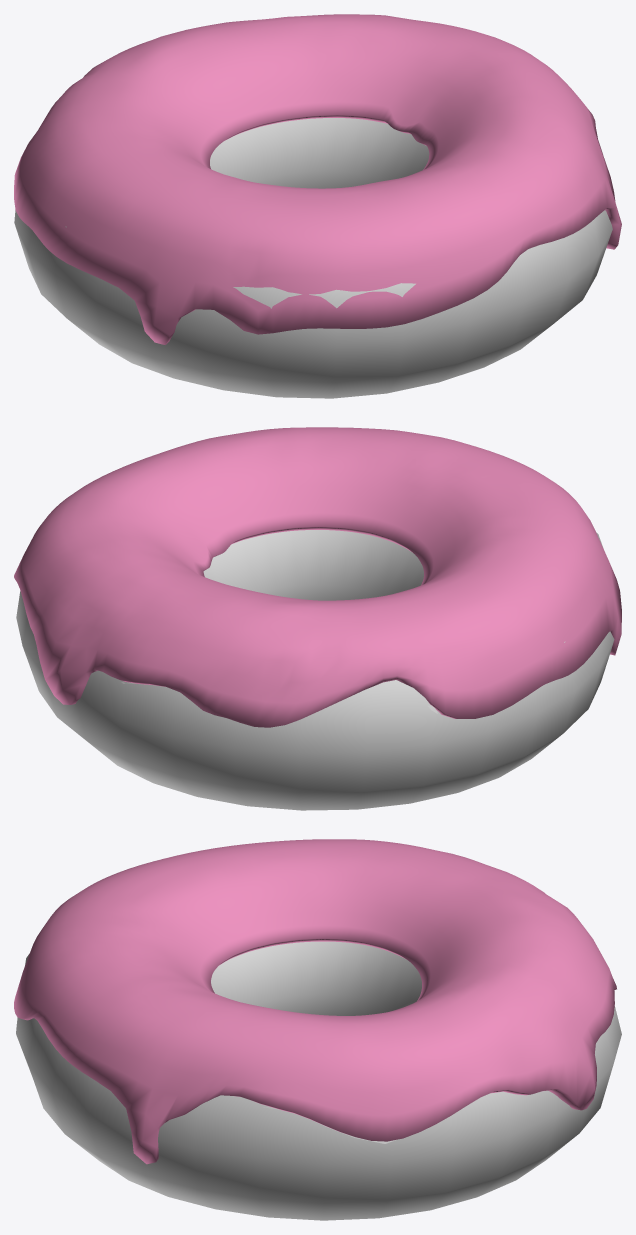
The model's file is donut.glb.
3 views of the same model, one above another, from view 1: azimuth 30°, elevation 25°; view 2: azimuth 150°, elevation 25°; view 3: azimuth 270°, elevation 25° (orthographic).
Visible parts, largest first — view 1: Icing, Donut.001; view 2: Icing, Donut.001; view 3: Icing, Donut.001.
Boxes of the visible parts, left/top/right/bottom form: Icing: left=14, top=14, right=621, bottom=344; Donut.001: left=14, top=118, right=612, bottom=398; Icing: left=14, top=427, right=621, bottom=727; Donut.001: left=16, top=530, right=614, bottom=810; Icing: left=14, top=839, right=616, bottom=1164; Donut.001: left=16, top=941, right=621, bottom=1220.
Size of what is drawn, in the model's own units: 0.1556 by 0.0557 by 0.1547.
